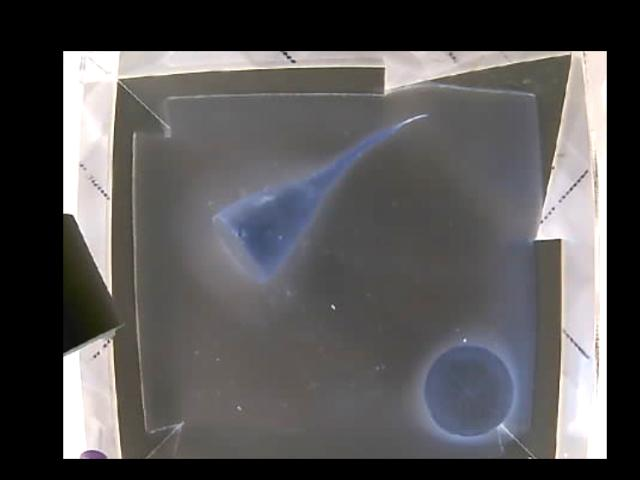Mooli: (215, 167, 329, 281), (421, 339, 515, 437)
